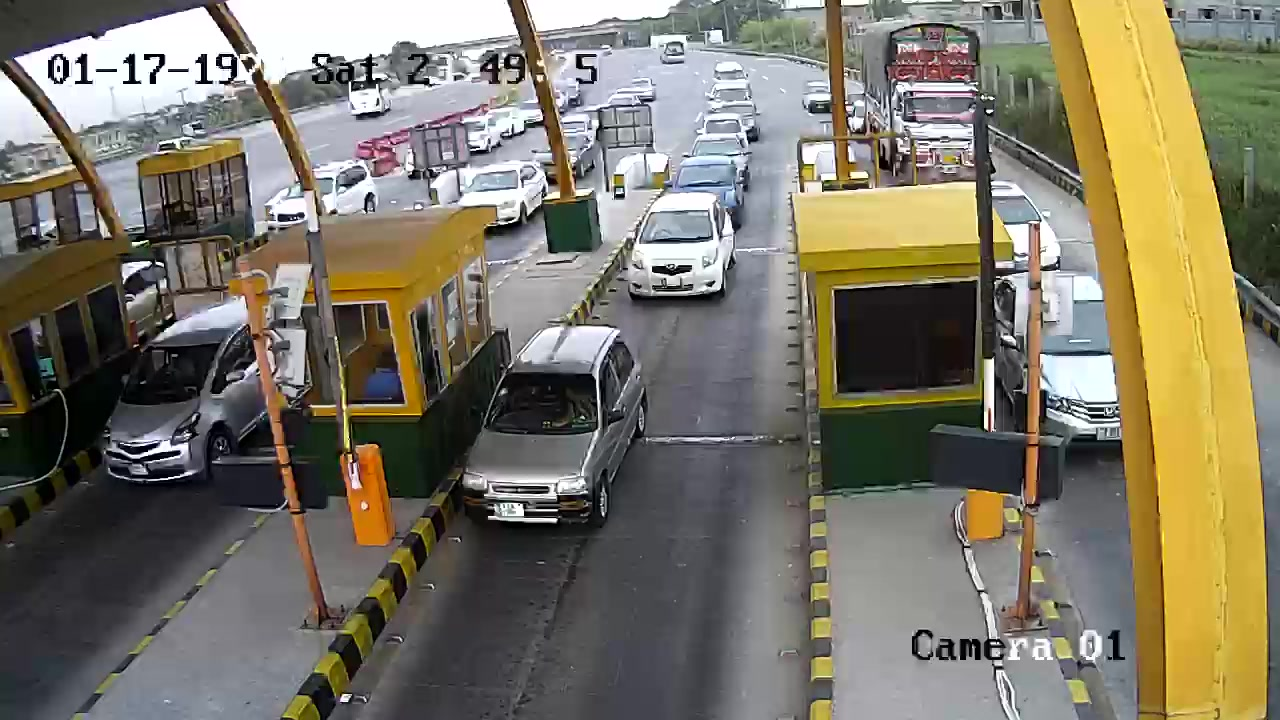F1: (455, 320, 655, 529), (627, 183, 741, 317)
